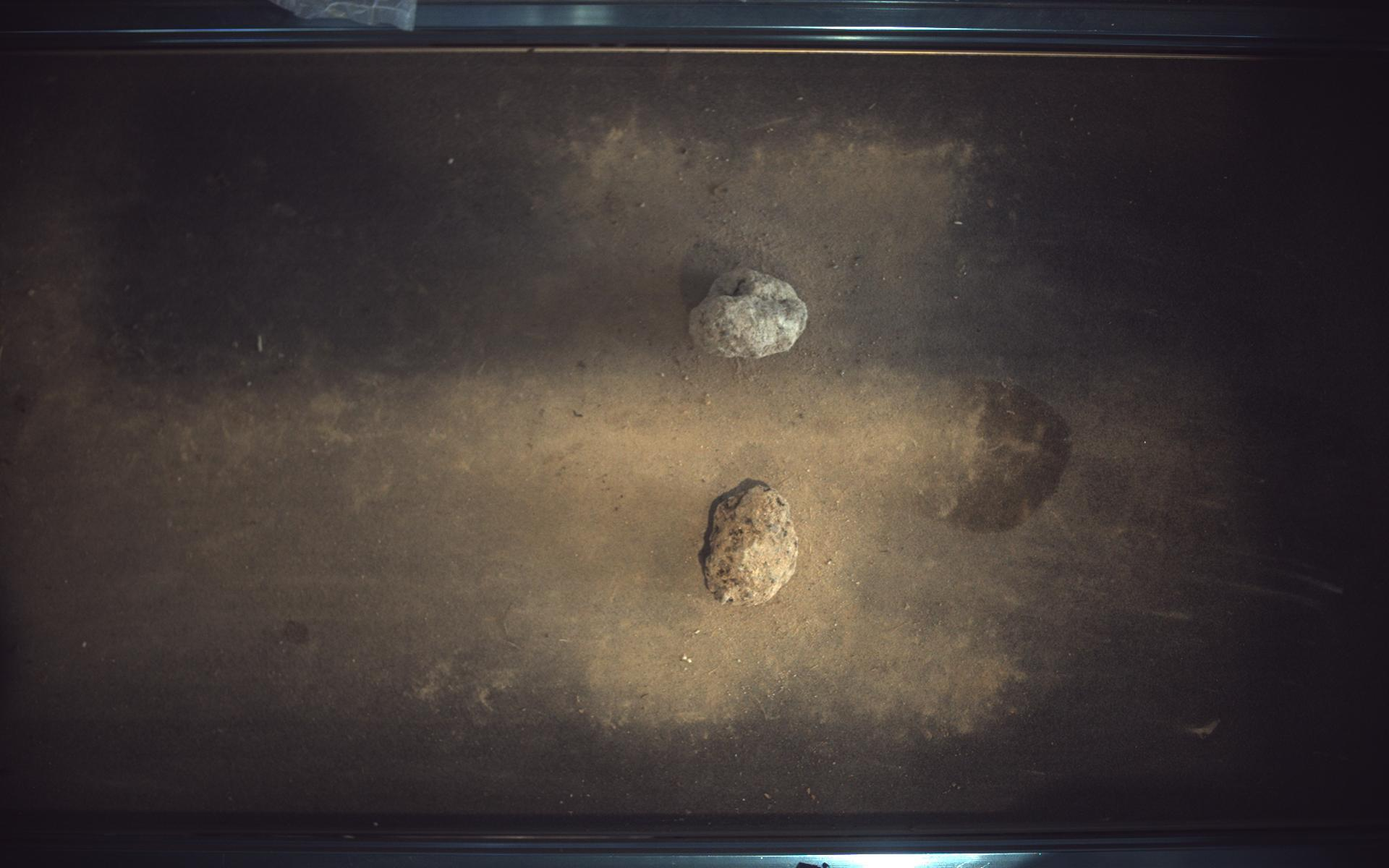stone: (700, 480, 799, 605), (690, 267, 809, 358)
